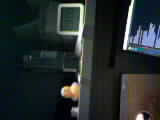duck: (53, 78, 79, 101)
